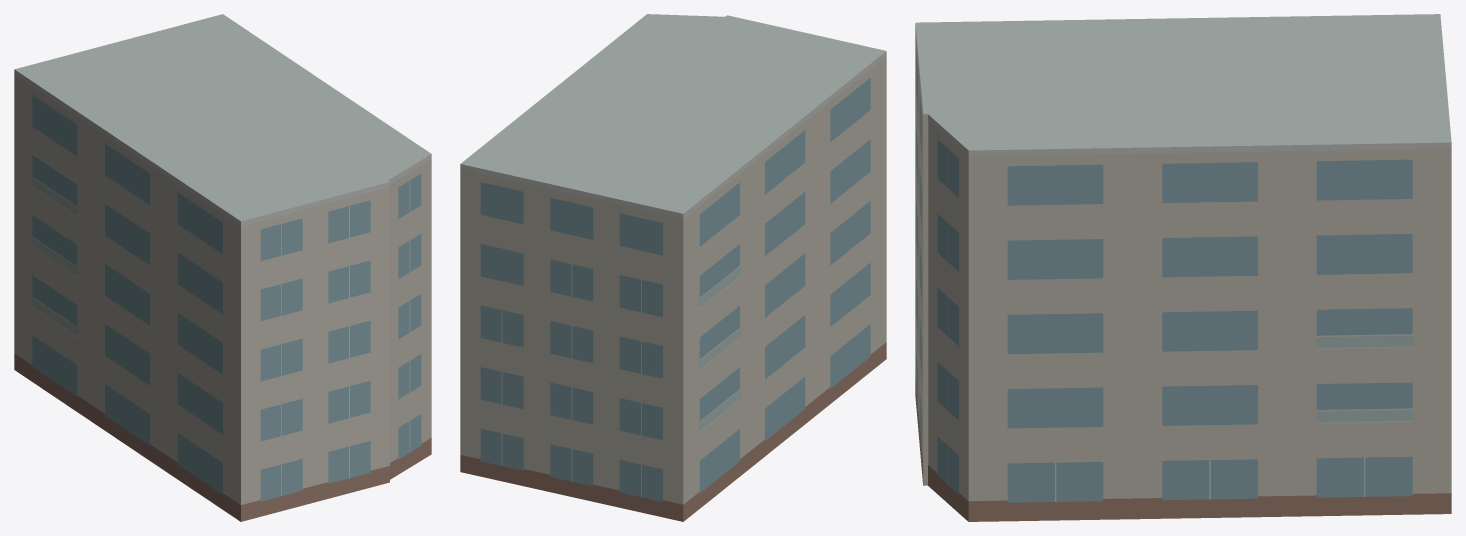
The model's file is survey-upis-32641946.glb.
3 views of the same model, side by side, from view 1: azimuth 30°, elevation 25°; view 2: azimuth 150°, elevation 25°; view 3: azimuth 270°, elevation 25° (orthographic). The views are drawn at different scales.
Visible parts, largest first — view 1: survey-upis-32641946.tmp; view 2: survey-upis-32641946.tmp; view 3: survey-upis-32641946.tmp.
Part boxes in pixels (bbox=[...]): survey-upis-32641946.tmp: bbox=[14, 14, 431, 521]; survey-upis-32641946.tmp: bbox=[460, 14, 886, 521]; survey-upis-32641946.tmp: bbox=[915, 14, 1451, 521].
Bounding box in the file's own units: 11.75 × 14.9 × 19.51.
